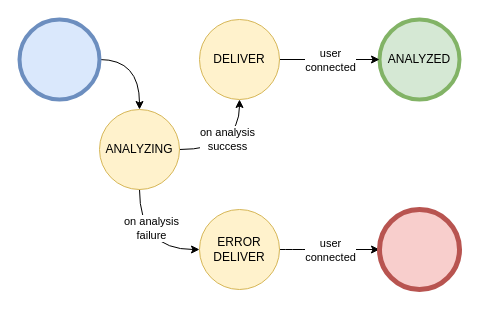
The diagram is 479 pixels wide and 309 high, and some of its shapes have lost their labels. Each missing label, with the box of its shape:
ERROR: (376, 206, 462, 292)
Start: (17, 17, 101, 101)
